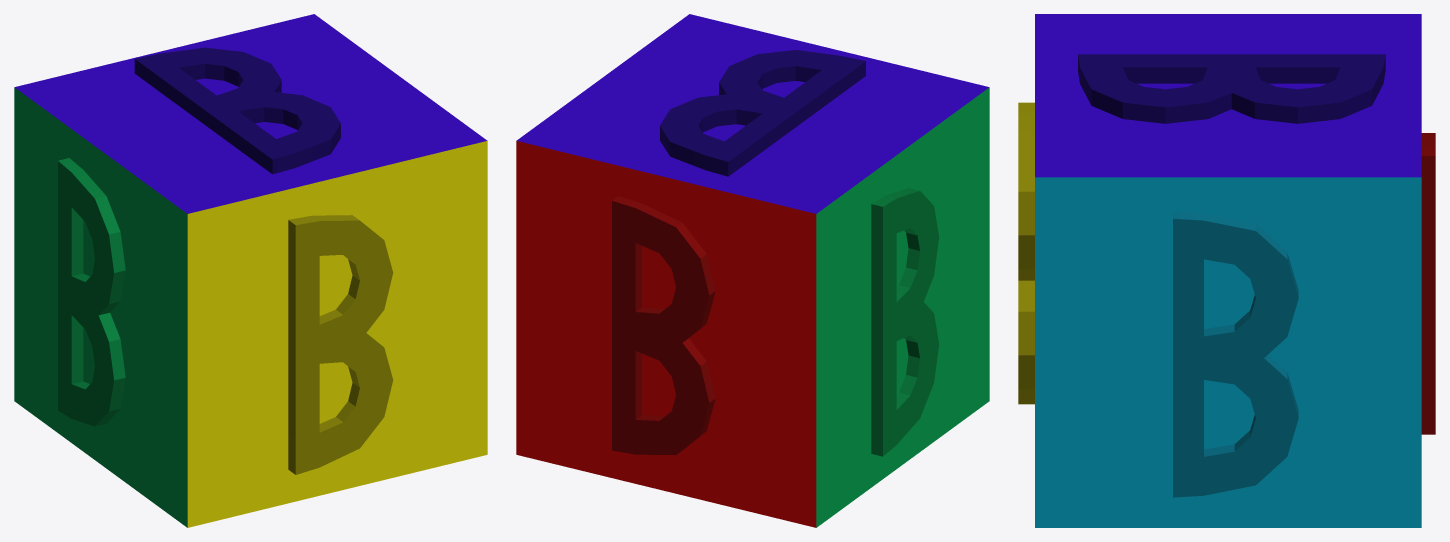
3 views of the same model, side by side, from view 1: azimuth 30°, elevation 25°; view 2: azimuth 150°, elevation 25°; view 3: azimuth 270°, elevation 25° (orthographic). The views are drawn at different scales.
Parts seen in each view (by area): view 1: CubeB; view 2: CubeB; view 3: CubeB.
Boxes of the visible parts, box(x1,y1,x2,y2) form: CubeB: box(14, 14, 487, 527); CubeB: box(516, 14, 989, 527); CubeB: box(1018, 14, 1435, 527).
Size of the model in its own units: 1.08 by 1.08 by 1.08.
